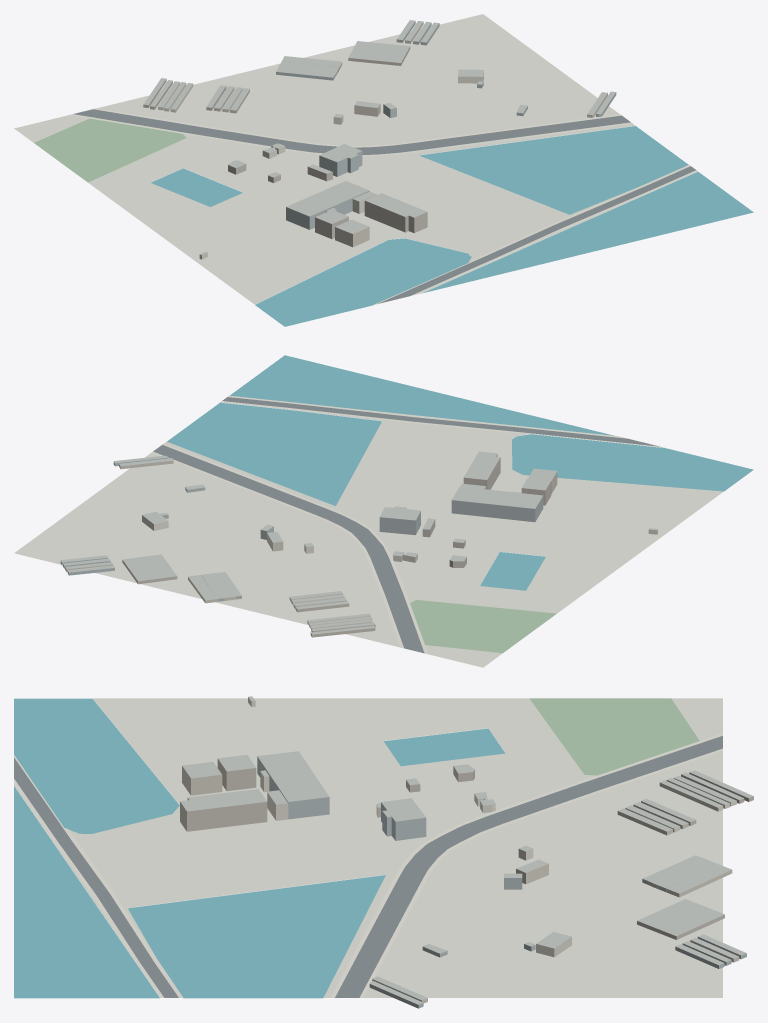
3 renders of one model, top to bottom at view 1: azimuth 30°, elevation 25°; view 2: azimuth 150°, elevation 25°; view 3: azimuth 270°, elevation 25°, orthographic. The views are drawn at different scales.
Visible parts, largest first — view 1: city; view 2: city; view 3: city.
Boxes of the visible parts, x1,y1,x2,y2 form: city: (14, 14, 753, 326); city: (14, 355, 753, 667); city: (14, 696, 753, 1008).
Bounding box in the file's own units: 518 × 15.98 × 522.
